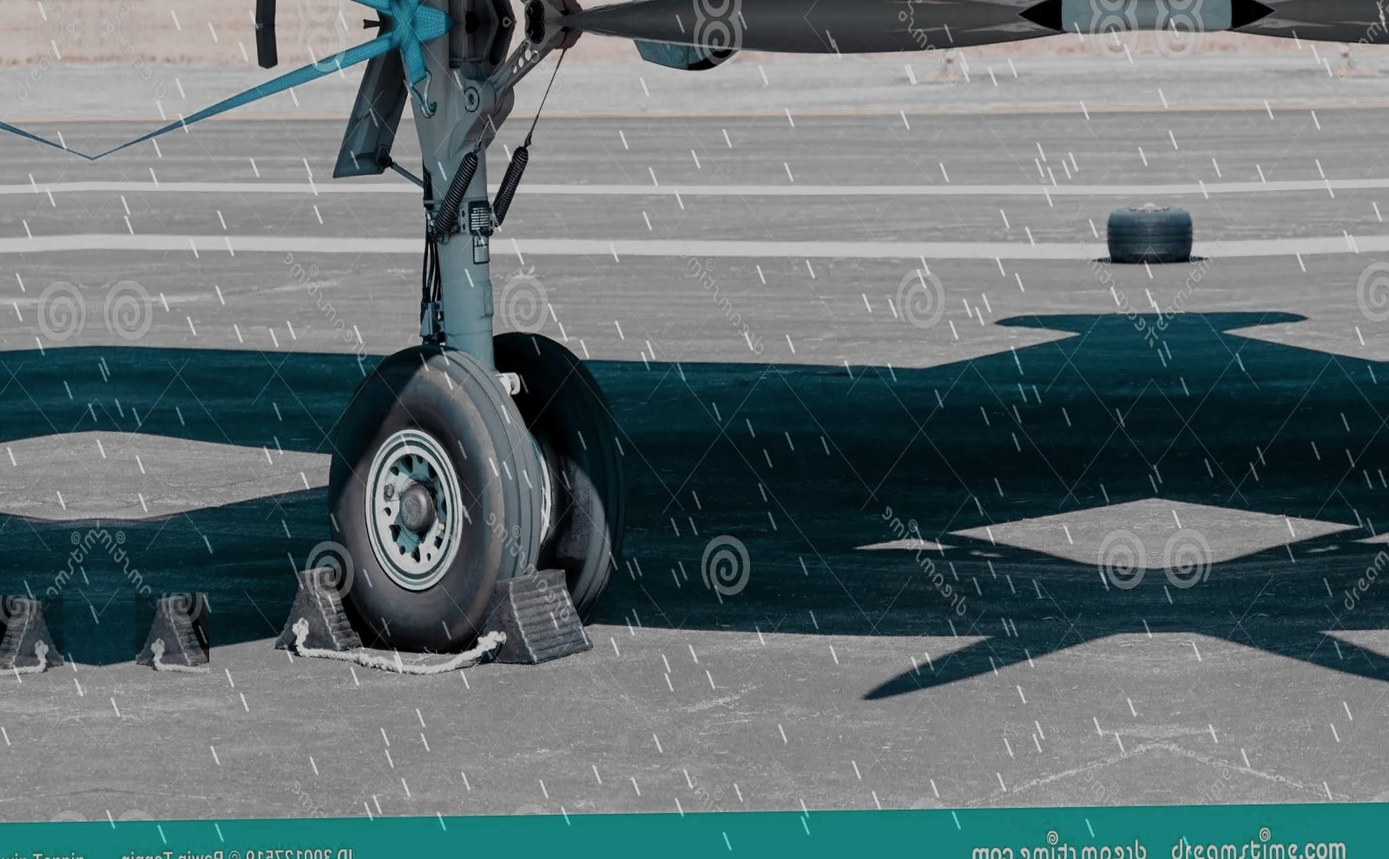chock: (478, 566, 598, 668), (273, 563, 362, 661), (135, 592, 209, 674), (0, 594, 64, 677)
wheel: (327, 342, 546, 650), (487, 328, 631, 628), (1150, 204, 1195, 264), (1106, 204, 1150, 265)
